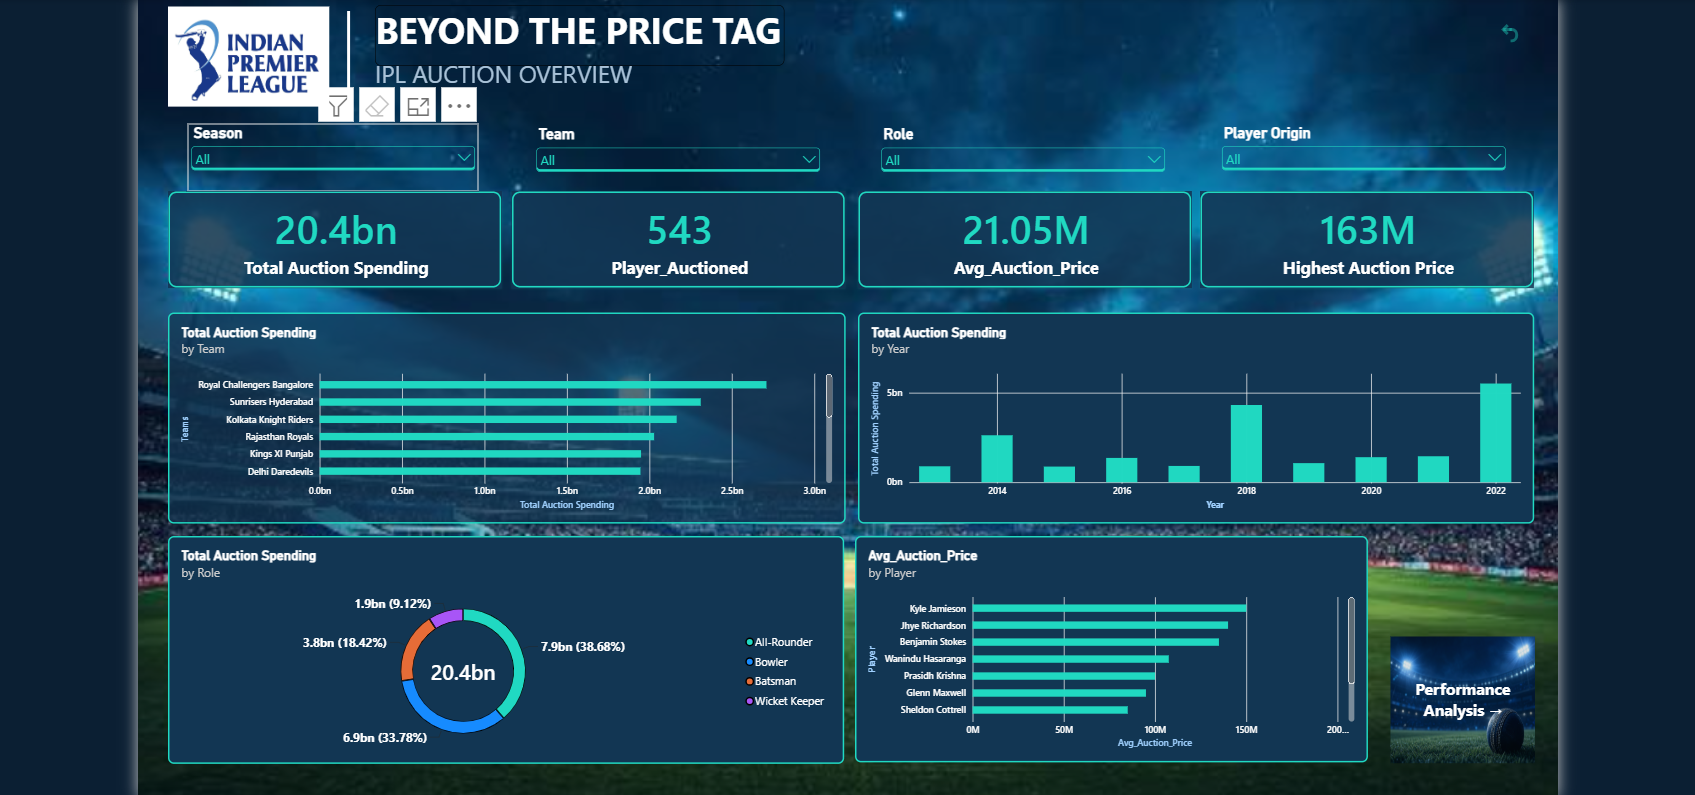

The page's visual inventory and layout, read from the dashboard file:
{"tool":"powerbi","page":{"name":"IPL Auction Overview","canvas":[1920,1080],"ordinal":1},"visuals":[{"type":"clusteredColumnChart","fields":{"Category":["IPLPlayerAuctionData.Year"],"Y":["IPLPlayerAuctionData.Total Auction Spending"]},"box":[973.1,424.5,913.8,285.5],"z":2000},{"type":"clusteredBarChart","fields":{"Category":["IPLPlayerAuctionData.Team"],"Y":["IPLPlayerAuctionData.Total Auction Spending"]},"box":[40.8,424.5,915.7,285.5],"z":3000},{"type":"donutChart","fields":{"Category":["IPLPlayerAuctionData.Role"],"Y":["IPLPlayerAuctionData.Total Auction Spending"]},"box":[40.8,726.6,913.8,307.7],"z":4000},{"type":"clusteredBarChart","fields":{"Category":["IPLPlayerAuctionData.Player"],"Y":["IPLPlayerAuctionData.Avg_Auction_Price"]},"box":[969.4,726.6,693.2,305.8],"z":5000},{"type":"slicer","fields":{"Values":["DimSeason.Season"]},"box":[66.7,168.9,393.3,91.1],"z":6000},{"type":"textbox","box":[320,8.9,553.3,82.2],"z":7000},{"type":"textbox","box":[320,80,362.2,60],"z":8000},{"type":"actionButton","box":[1693.3,862.2,195.6,171.1],"z":9000},{"type":"actionButton","title":"RESET","box":[1817.8,15.6,71.1,60],"z":10000},{"type":"slicer","fields":{"Values":["IPLPlayerAuctionData.Team"]},"box":[533.3,171.1,393.3,91.1],"z":11000},{"type":"slicer","fields":{"Values":["IPLPlayerAuctionData.Role"]},"box":[1000,171.1,393.3,91.1],"z":12000},{"type":"slicer","fields":{"Values":["IPLPlayerAuctionData.Player Origin"]},"box":[1460,168.9,393.3,91.1],"z":13000},{"type":"shape","box":[228.9,15.6,111.1,128.9],"z":15000},{"type":"image","box":[40,11.1,217.8,135.6],"z":16000},{"type":"cardVisual","fields":{"Data":["IPLPlayerAuctionData.Total Auction Spending"]},"box":[40,260,451.1,131.1],"z":17000},{"type":"cardVisual","fields":{"Data":["IPLPlayerAuctionData.Player_Auctioned"]},"box":[504.4,260,451.1,131.1],"z":18000},{"type":"cardVisual","fields":{"Data":["IPLPlayerAuctionData.Avg_Auction_Price"]},"box":[973.3,260,451.1,131.1],"z":19000},{"type":"cardVisual","fields":{"Data":["IPLPlayerAuctionData.Highest Auction Price"]},"box":[1435.6,260,451.1,131.1],"z":20000}]}

Visuals, with their boxes on the page's 1920x1080 design canvas (x1, y1, x2, y2). These are canvas units, not pixel positions in the 1695x795 screenshot, which may show the page scaled, cropped or inside an application window:
clusteredColumnChart - IPLPlayerAuctionData.Year x IPLPlayerAuctionData.Total Auction Spending: {"x1": 973, "y1": 424, "x2": 1887, "y2": 710}
clusteredBarChart - IPLPlayerAuctionData.Team x IPLPlayerAuctionData.Total Auction Spending: {"x1": 41, "y1": 424, "x2": 956, "y2": 710}
donutChart - IPLPlayerAuctionData.Role x IPLPlayerAuctionData.Total Auction Spending: {"x1": 41, "y1": 727, "x2": 955, "y2": 1034}
clusteredBarChart - IPLPlayerAuctionData.Player x IPLPlayerAuctionData.Avg_Auction_Price: {"x1": 969, "y1": 727, "x2": 1663, "y2": 1032}
slicer - DimSeason.Season: {"x1": 67, "y1": 169, "x2": 460, "y2": 260}
textbox: {"x1": 320, "y1": 9, "x2": 873, "y2": 91}
textbox: {"x1": 320, "y1": 80, "x2": 682, "y2": 140}
actionButton: {"x1": 1693, "y1": 862, "x2": 1889, "y2": 1033}
"RESET" actionButton: {"x1": 1818, "y1": 16, "x2": 1889, "y2": 76}
slicer - IPLPlayerAuctionData.Team: {"x1": 533, "y1": 171, "x2": 927, "y2": 262}
slicer - IPLPlayerAuctionData.Role: {"x1": 1000, "y1": 171, "x2": 1393, "y2": 262}
slicer - IPLPlayerAuctionData.Player Origin: {"x1": 1460, "y1": 169, "x2": 1853, "y2": 260}
shape: {"x1": 229, "y1": 16, "x2": 340, "y2": 144}
image: {"x1": 40, "y1": 11, "x2": 258, "y2": 147}
cardVisual - IPLPlayerAuctionData.Total Auction Spending: {"x1": 40, "y1": 260, "x2": 491, "y2": 391}
cardVisual - IPLPlayerAuctionData.Player_Auctioned: {"x1": 504, "y1": 260, "x2": 956, "y2": 391}
cardVisual - IPLPlayerAuctionData.Avg_Auction_Price: {"x1": 973, "y1": 260, "x2": 1424, "y2": 391}
cardVisual - IPLPlayerAuctionData.Highest Auction Price: {"x1": 1436, "y1": 260, "x2": 1887, "y2": 391}
